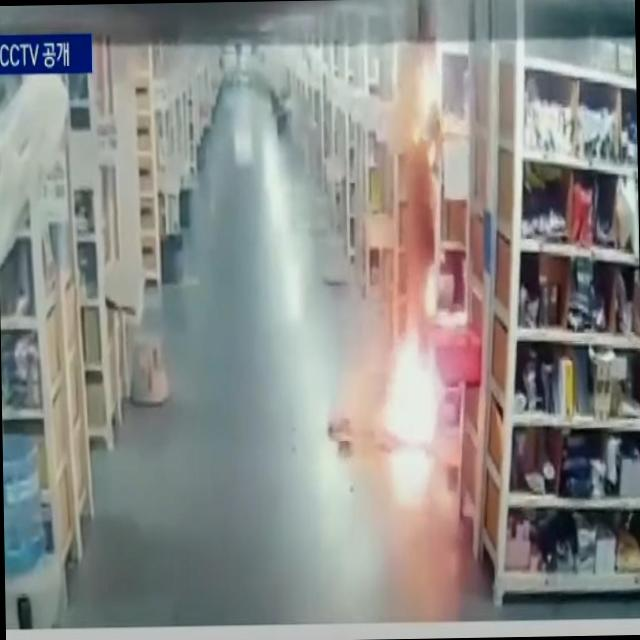fire: (376, 319, 449, 446), (396, 38, 448, 162)
